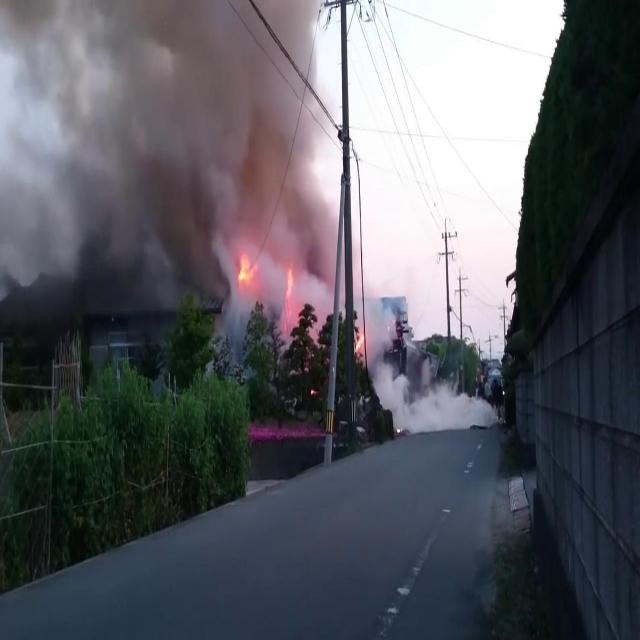Fire: (239, 255, 254, 278), (354, 333, 367, 351), (286, 260, 294, 282)
Smoke: (2, 1, 339, 262), (368, 373, 504, 431), (259, 268, 329, 324)
